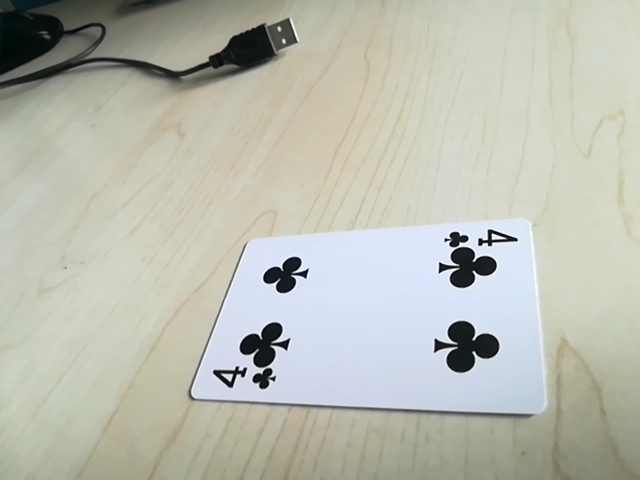mh 4: (205, 363, 281, 395), (442, 224, 519, 253)
